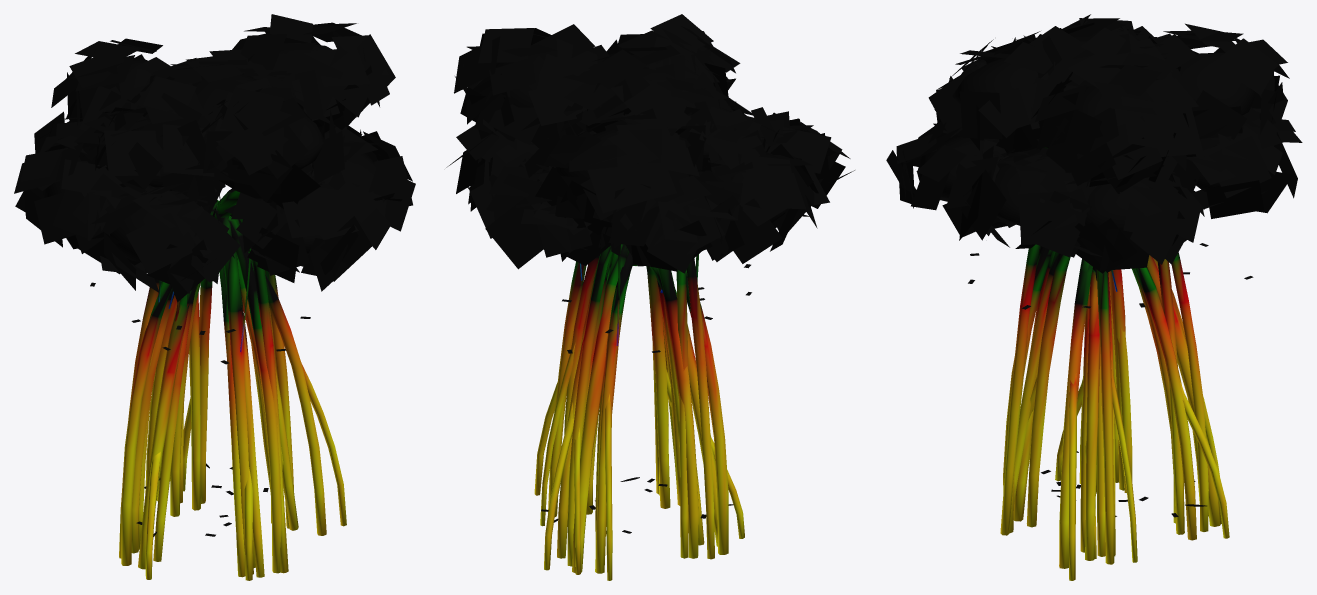
The model's file is mangrove_a.glb.
3 views of the same model, side by side, from view 1: azimuth 30°, elevation 25°; view 2: azimuth 150°, elevation 25°; view 3: azimuth 270°, elevation 25° (orthographic). The views are drawn at different scales.
Parts seen in each view (by area): view 1: mangrove_a; view 2: mangrove_a; view 3: mangrove_a.
Boxes of the visible parts, x1,y1,x2,y2 form: mangrove_a: (14, 14, 415, 580); mangrove_a: (446, 14, 854, 580); mangrove_a: (886, 14, 1302, 580).
Size of the model in its own units: 5.51 by 7.17 by 5.43.
